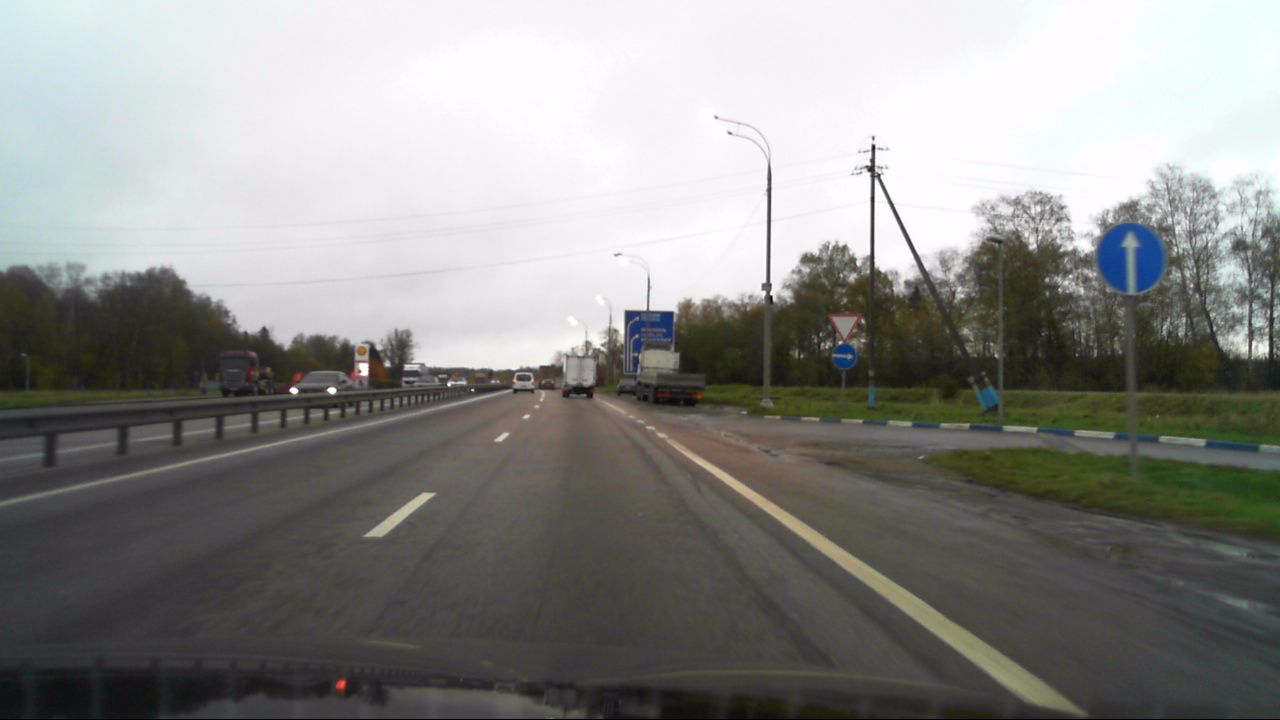Turn Right: (831, 343, 857, 370)
